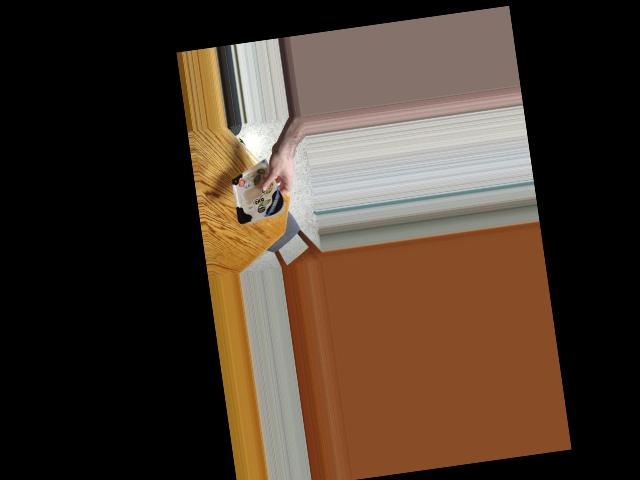cheese: (234, 162, 278, 225)
